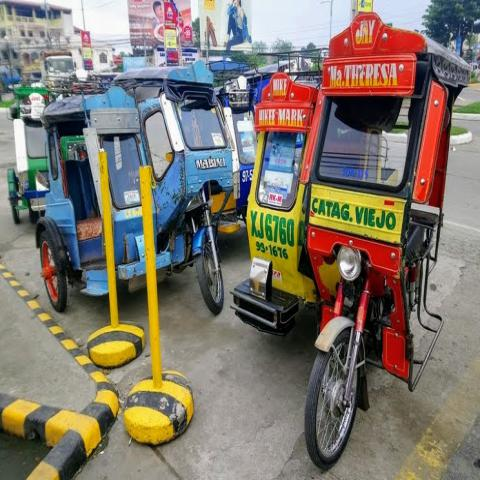motorcycle: (245, 15, 474, 454), (41, 68, 234, 308)
truck: (42, 54, 75, 96)
